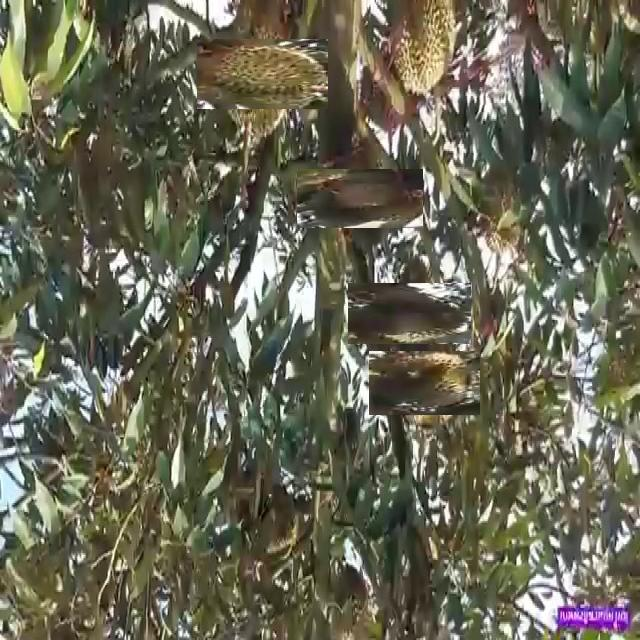durian: (212, 23, 313, 125), (364, 267, 456, 360), (314, 153, 407, 245), (380, 339, 468, 427), (385, 2, 459, 105)
